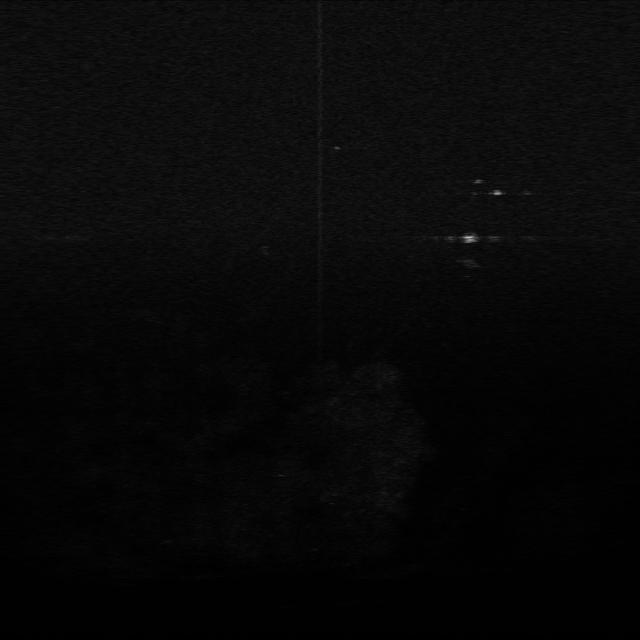rov: (456, 230, 483, 247)
